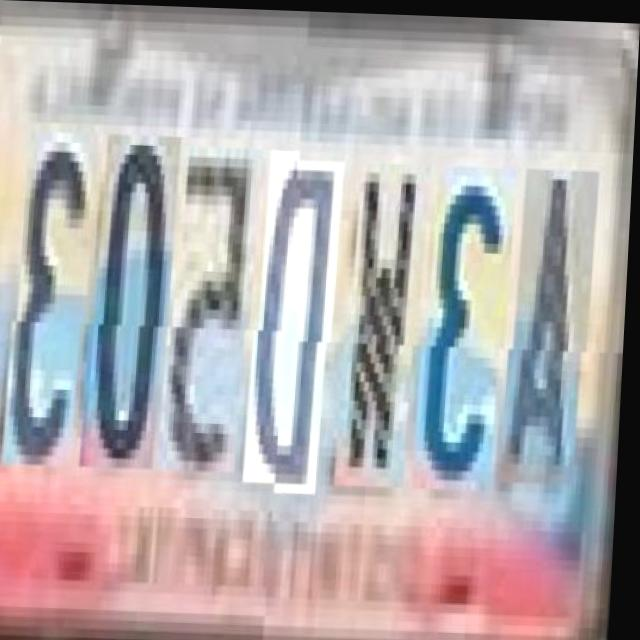3: (418, 162, 515, 488), (9, 140, 96, 476)
5: (163, 155, 260, 480)
a: (505, 164, 598, 481)
d: (249, 156, 342, 492)
o: (85, 142, 178, 478)
w: (341, 160, 428, 485)
